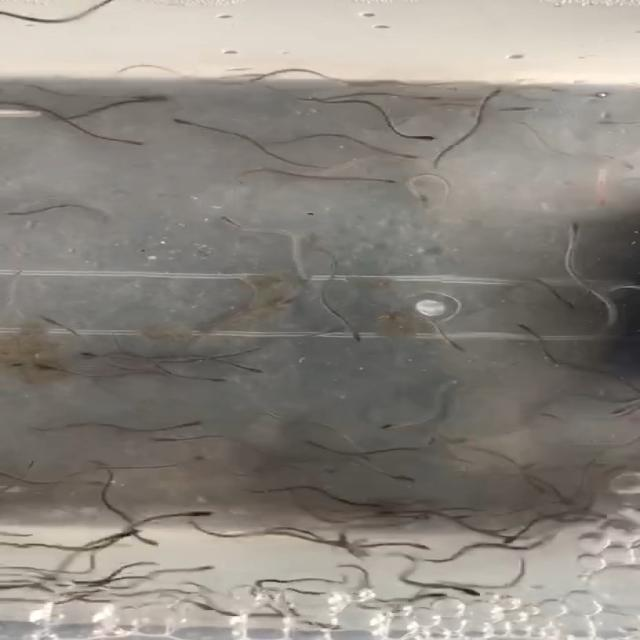active_glass_eel: (561, 220, 590, 240), (383, 468, 419, 484), (397, 538, 439, 551), (218, 211, 248, 229), (508, 319, 538, 337), (314, 614, 346, 630), (588, 188, 614, 207), (107, 526, 148, 538), (414, 588, 454, 600), (349, 326, 374, 345), (135, 92, 173, 104), (238, 362, 268, 377), (443, 338, 475, 352), (134, 532, 162, 548), (474, 88, 505, 102), (32, 312, 65, 325), (74, 345, 107, 358), (32, 361, 60, 376), (358, 448, 386, 463), (456, 582, 486, 596), (409, 131, 440, 144), (414, 190, 436, 208), (611, 154, 635, 170), (186, 507, 218, 519), (379, 420, 417, 430), (183, 451, 208, 466), (151, 434, 184, 445), (609, 403, 633, 418), (110, 138, 145, 148), (166, 117, 194, 129), (176, 418, 209, 428), (398, 152, 423, 165), (197, 375, 228, 385), (560, 299, 582, 313), (182, 562, 218, 570), (82, 477, 108, 488), (418, 95, 446, 105), (514, 104, 539, 113), (374, 177, 398, 184)
